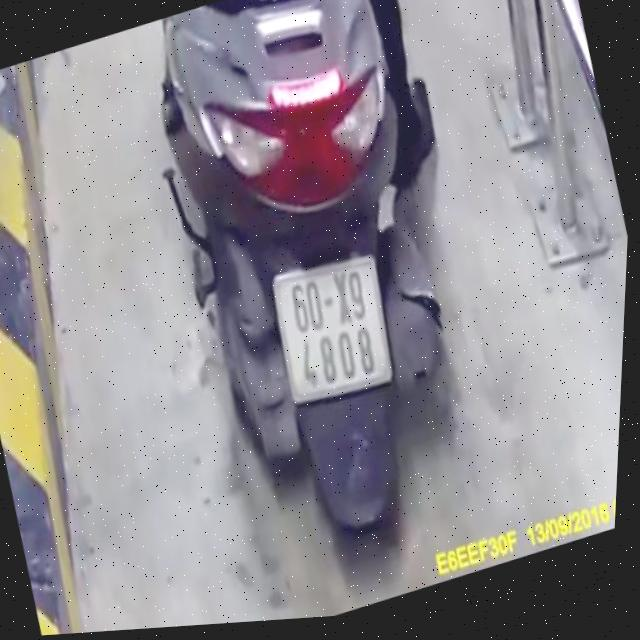motorcycle: (103, 0, 517, 602)
plate: (254, 241, 408, 419)
